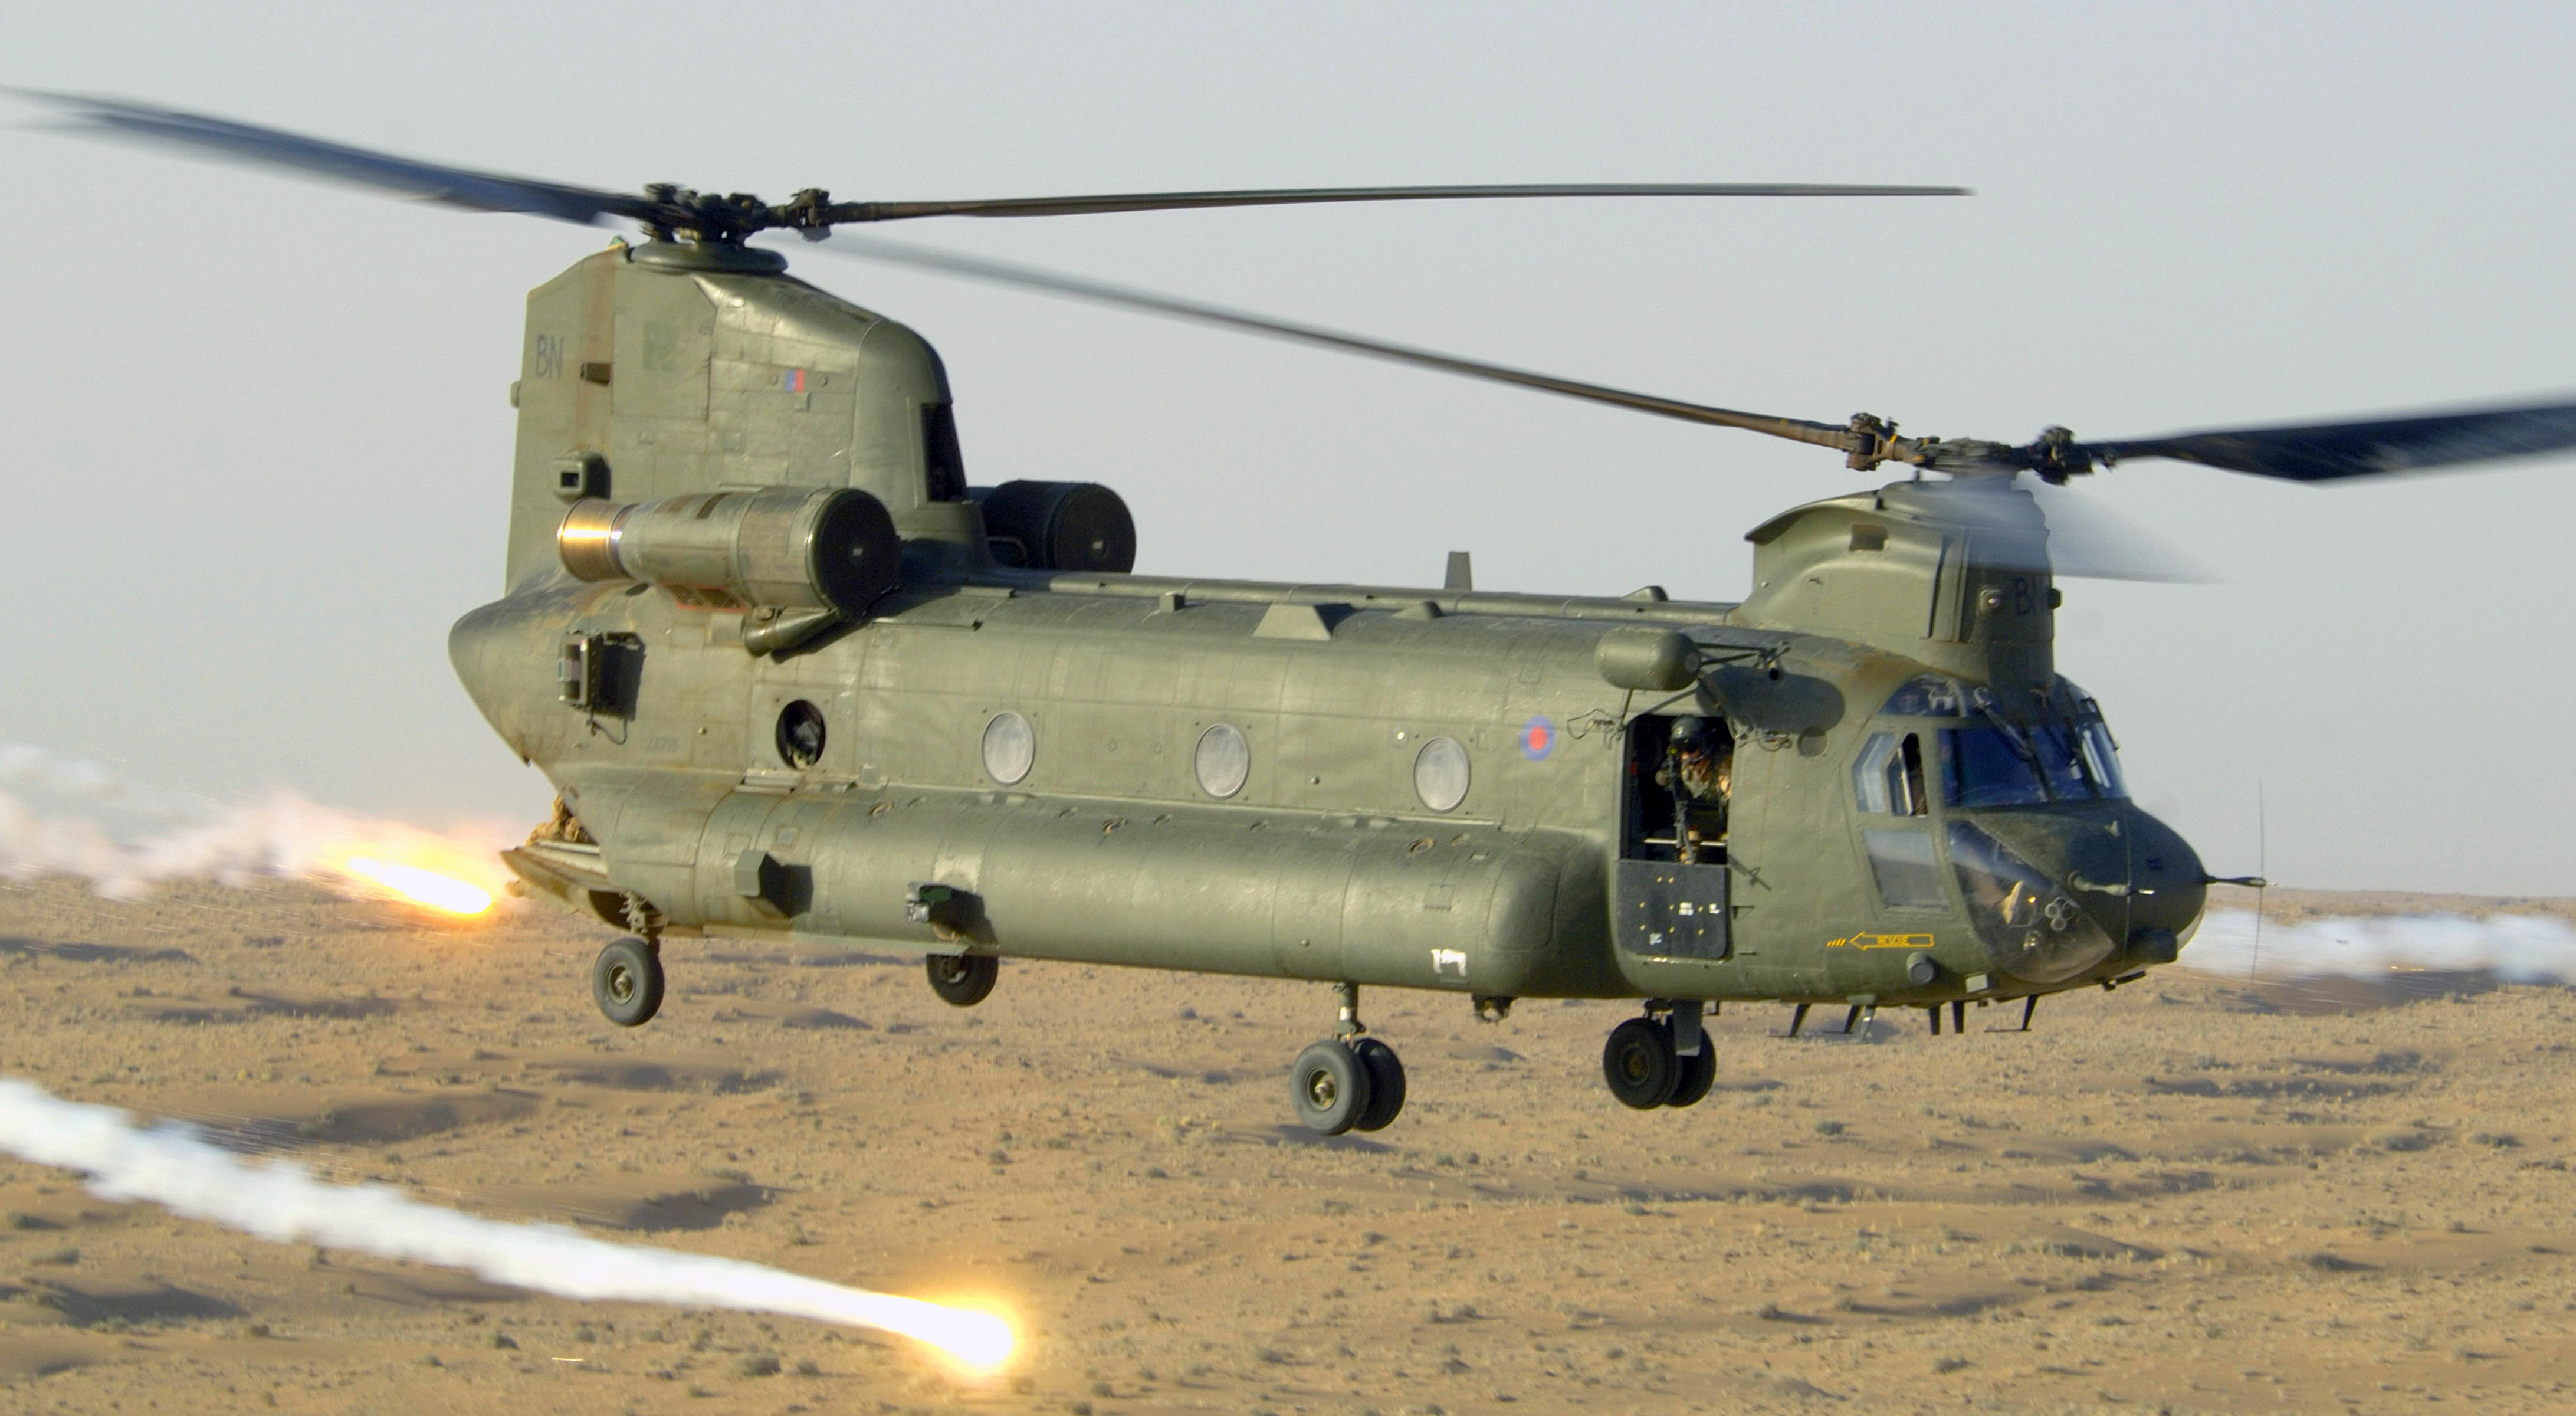chinook: (430, 160, 2301, 1135)
